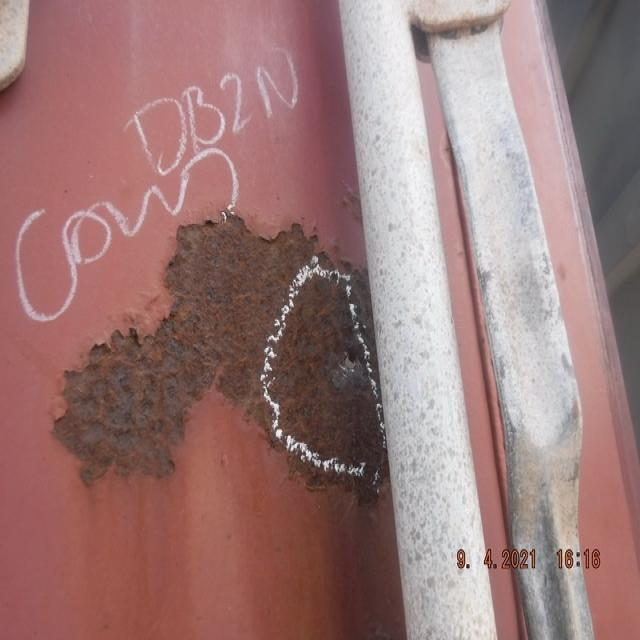rust: (45, 201, 393, 518)
